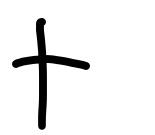plus: (13, 18, 90, 130)
